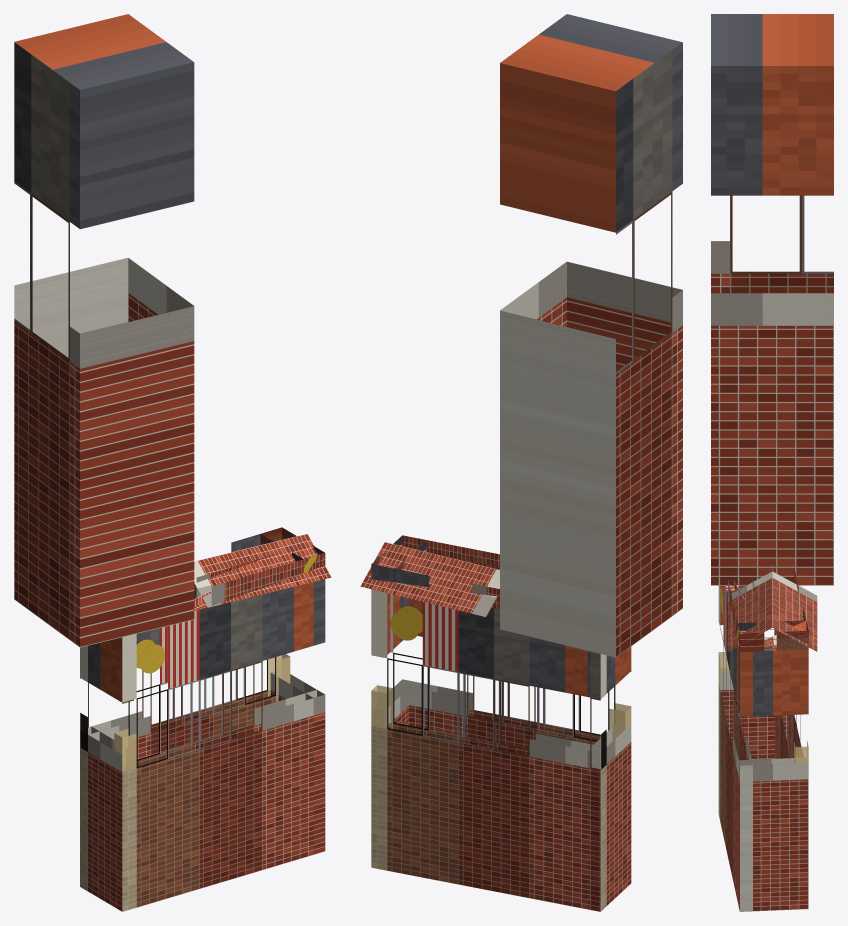
3 views of the same model, side by side, from view 1: azimuth 30°, elevation 25°; view 2: azimuth 150°, elevation 25°; view 3: azimuth 270°, elevation 25° (orthographic). The views are drawn at different scales.
Parts seen in each view (by area): view 1: 238531844__chimney_0_xb, 238531844__wall_2_xb, 238531844__wall_0_xb, 238531844__wall_1_xb, 238531844_roof_-1_xb, 238531844__wall_3_xb, 238531844__cornice_2, 238531844__wall_0_xf, 238531844__wall_2_xf; view 2: 238531844__chimney_0_xb, 238531844__wall_0_xb, 238531844__wall_1_xb, 238531844__wall_2_xb, 238531844_roof_1_xb, 238531844__wall_3_xb, 238531844__cornice_2, 238531844__cornice_0, 238531844__wall_0_xf; view 3: 238531844__chimney_0_xb, 238531844__wall_3_xb, 238531844__wall_2_xb, 238531844_roof_1_xb, 238531844__wall_1_xb, 238531844_roof_-1_xb, 238531844__wall_0_xb, 238531844__cornice_3, 238531844__cornice_2.
Part boxes in pixels (x1,y1,x2,y2): 238531844__chimney_0_xb: (14, 14, 194, 647); 238531844__wall_2_xb: (114, 582, 316, 911); 238531844__wall_0_xb: (80, 587, 290, 891); 238531844__wall_1_xb: (80, 637, 133, 911); 238531844_roof_-1_xb: (194, 533, 331, 607); 238531844__wall_3_xb: (270, 579, 325, 854); 238531844__cornice_2: (194, 545, 325, 610); 238531844__wall_0_xf: (80, 654, 289, 750); 238531844__wall_2_xf: (114, 729, 136, 771); 238531844__chimney_0_xb: (500, 14, 682, 657); 238531844__wall_0_xb: (371, 589, 606, 911); 238531844__wall_1_xb: (587, 646, 631, 911); 238531844__wall_2_xb: (396, 598, 631, 748); 238531844_roof_1_xb: (360, 542, 499, 616); 238531844__wall_3_xb: (372, 593, 415, 728); 238531844__cornice_2: (393, 535, 499, 569); 238531844__cornice_0: (371, 554, 499, 609); 238531844__wall_0_xf: (371, 685, 605, 768); 238531844__chimney_0_xb: (711, 14, 833, 585); 238531844__wall_3_xb: (738, 645, 808, 911); 238531844__wall_2_xb: (718, 585, 752, 911); 238531844_roof_1_xb: (772, 571, 817, 651); 238531844__wall_1_xb: (718, 585, 787, 759); 238531844_roof_-1_xb: (727, 571, 772, 651); 238531844__wall_0_xb: (775, 715, 808, 763); 238531844__cornice_3: (737, 620, 808, 650); 238531844__cornice_2: (725, 579, 764, 651).
Size of the model in its own units: 0.3424 by 1.05 by 0.15.
Materials: 1 (1 with a texture image).
